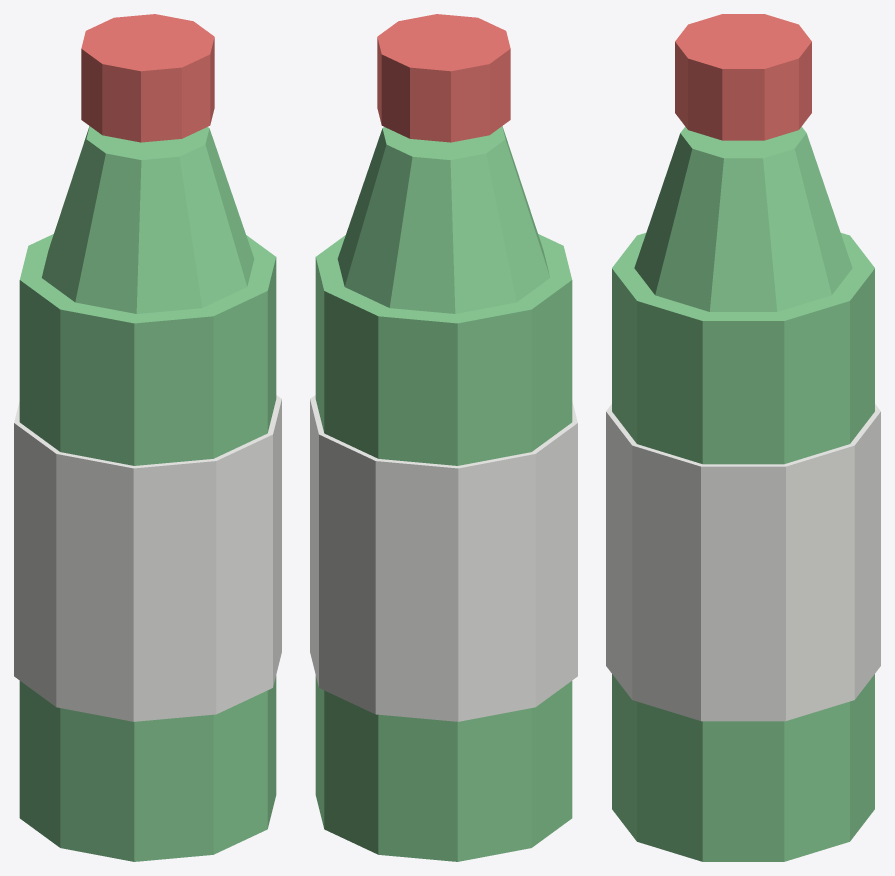
The model's file is Botella_Zumo.fbx.
3 views of the same model, side by side, from view 1: azimuth 30°, elevation 25°; view 2: azimuth 150°, elevation 25°; view 3: azimuth 270°, elevation 25° (orthographic).
Parts seen in each view (by area): view 1: Botella_Zumo | Botella, Botella_Zumo | Etiqueta botella, Botella_Zumo | Cuello botella, Botella_Zumo | Tapón; view 2: Botella_Zumo | Botella, Botella_Zumo | Etiqueta botella, Botella_Zumo | Cuello botella, Botella_Zumo | Tapón; view 3: Botella_Zumo | Botella, Botella_Zumo | Etiqueta botella, Botella_Zumo | Cuello botella, Botella_Zumo | Tapón.
Part boxes in pixels (bbox=[...]): Botella_Zumo | Botella: bbox=[19, 234, 276, 861]; Botella_Zumo | Etiqueta botella: bbox=[14, 395, 281, 721]; Botella_Zumo | Cuello botella: bbox=[41, 126, 254, 313]; Botella_Zumo | Tapón: bbox=[81, 14, 214, 142]; Botella_Zumo | Botella: bbox=[315, 234, 572, 861]; Botella_Zumo | Etiqueta botella: bbox=[310, 395, 577, 721]; Botella_Zumo | Cuello botella: bbox=[337, 126, 550, 313]; Botella_Zumo | Tapón: bbox=[377, 14, 510, 142]; Botella_Zumo | Botella: bbox=[612, 233, 874, 861]; Botella_Zumo | Etiqueta botella: bbox=[606, 404, 880, 721]; Botella_Zumo | Cuello botella: bbox=[634, 126, 852, 311]; Botella_Zumo | Tapón: bbox=[675, 14, 811, 140].
Bounding box in the file's own units: 0.0894 × 0.2895 × 0.094.
